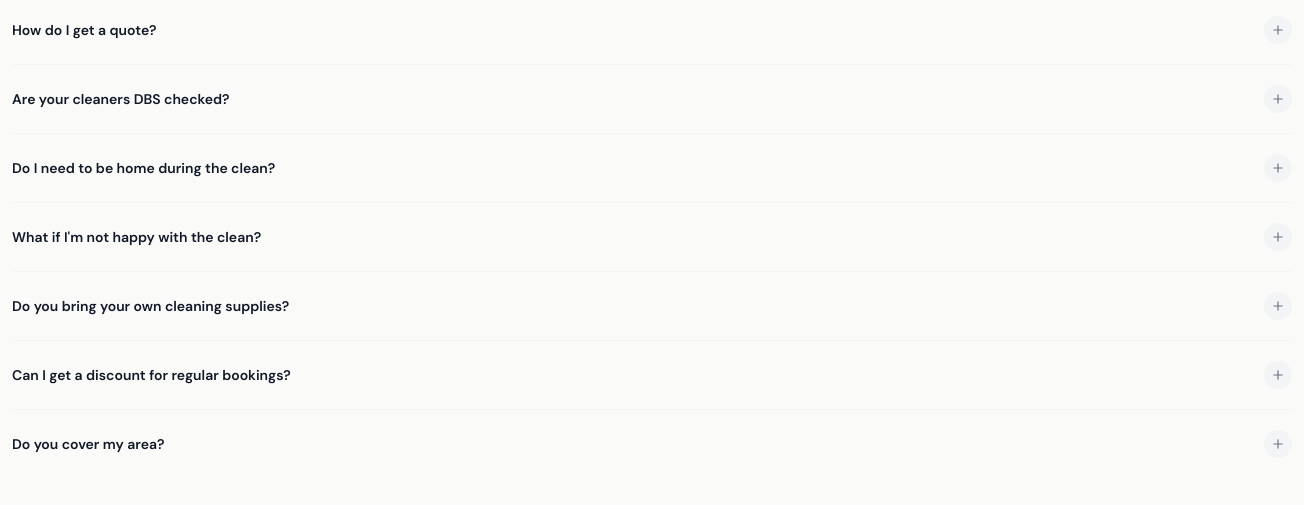
FaqAccordion › only one answer open at a time
Click the button "How do I get a quote?".
click(84, 30)  # box 12,16 -> 1292,44
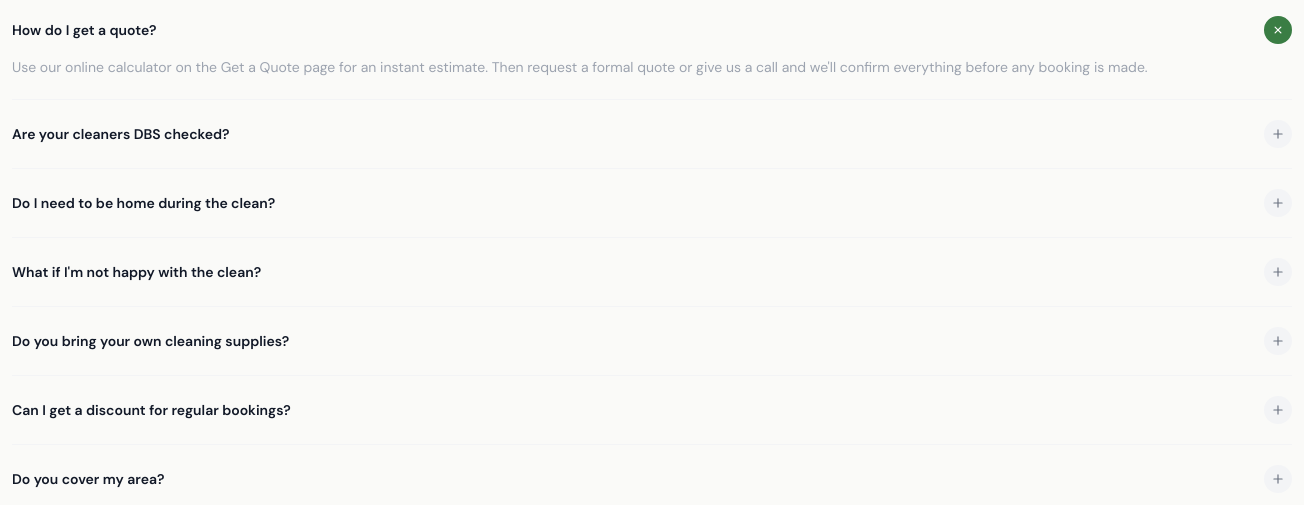
Click the button "Are your cleaners DBS checked?".
click(121, 134)  # box 12,120 -> 1292,148
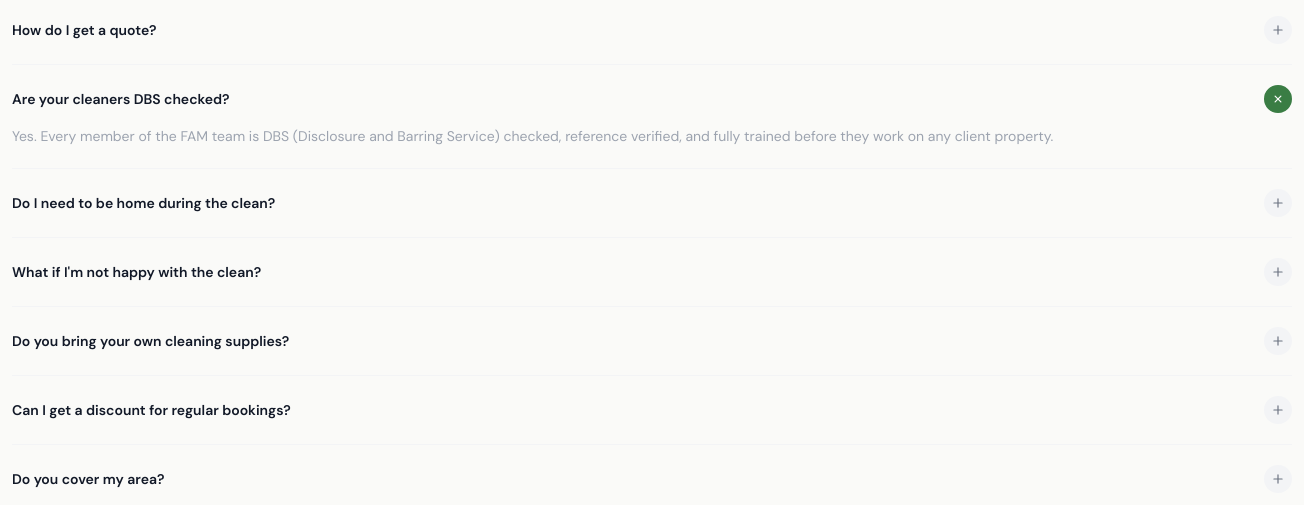
expect the button "How do I get a quote?" is collapsed: met, box 12,16 -> 1292,44
expect the button "Are your cleaners DBS checked?" is expanded: met, box 12,85 -> 1292,113
